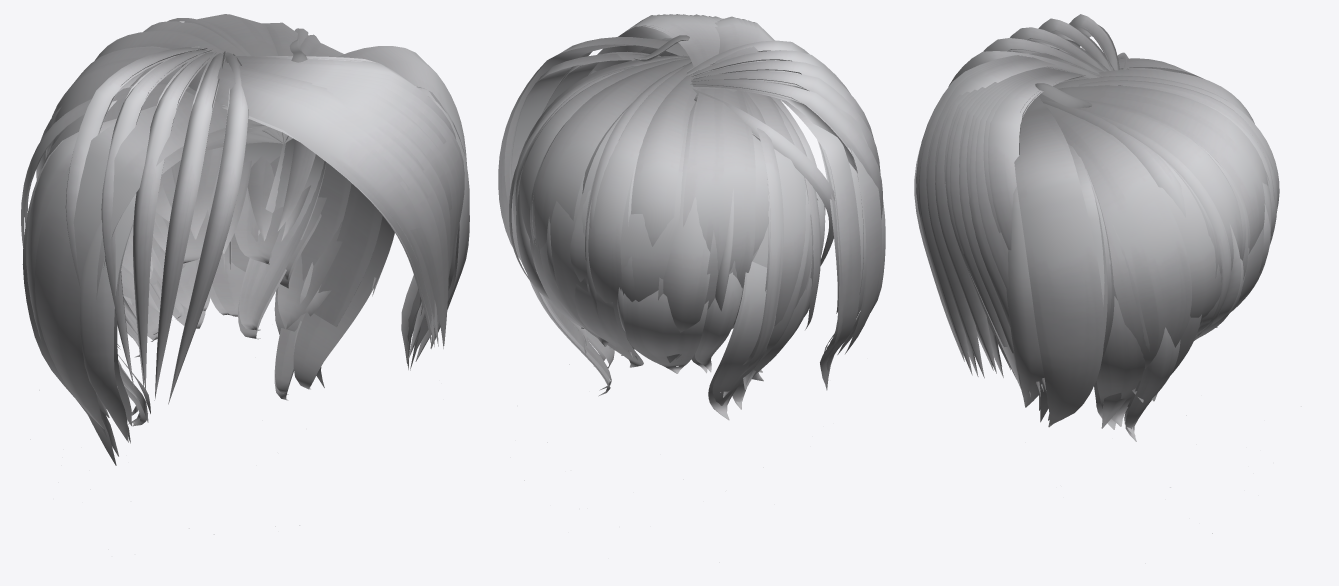
Rendered from vroid_hair_c11v4r.glb.
3 renders of one model, left to right at view 1: azimuth 30°, elevation 25°; view 2: azimuth 150°, elevation 25°; view 3: azimuth 270°, elevation 25°, orthographic. The views are drawn at different scales.
Parts seen in each view (by area): view 1: hair; view 2: hair; view 3: hair.
Boxes of the visible parts, box(x1,y1,x2,y2) form: hair: box(21, 14, 469, 534); hair: box(498, 14, 885, 480); hair: box(914, 14, 1301, 533).
Size of the model in its own units: 0.2212 by 0.2754 by 0.2162.
Materials: 1 (1 with a texture image).
